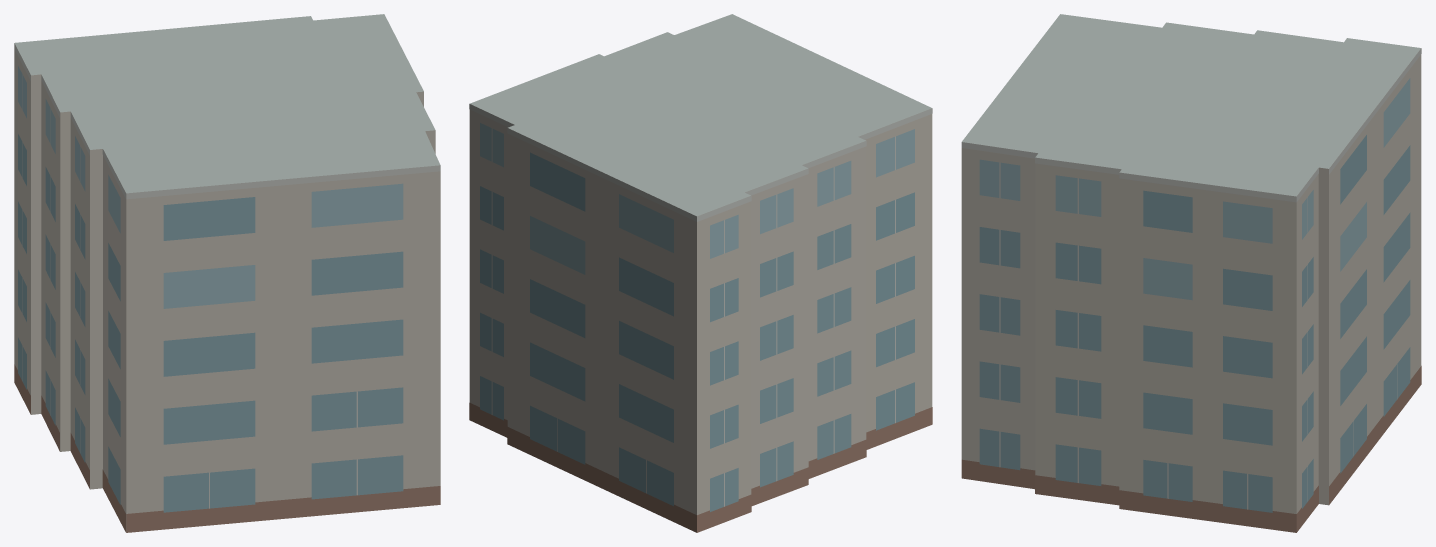
Rendered from survey-upis-32633509.glb.
The picture shows the model from 3 angles, left to right: view 1: azimuth 30°, elevation 25°; view 2: azimuth 150°, elevation 25°; view 3: azimuth 270°, elevation 25°; orthographic projection. The views are drawn at different scales.
Visible parts, largest first — view 1: survey-upis-32633509.tmp; view 2: survey-upis-32633509.tmp; view 3: survey-upis-32633509.tmp.
Boxes of the visible parts, bbox=[...] form: survey-upis-32633509.tmp: bbox=[14, 14, 440, 532]; survey-upis-32633509.tmp: bbox=[469, 14, 932, 532]; survey-upis-32633509.tmp: bbox=[961, 14, 1421, 532].
Size of the model in its own units: 16.18 by 13.9 by 17.23.
